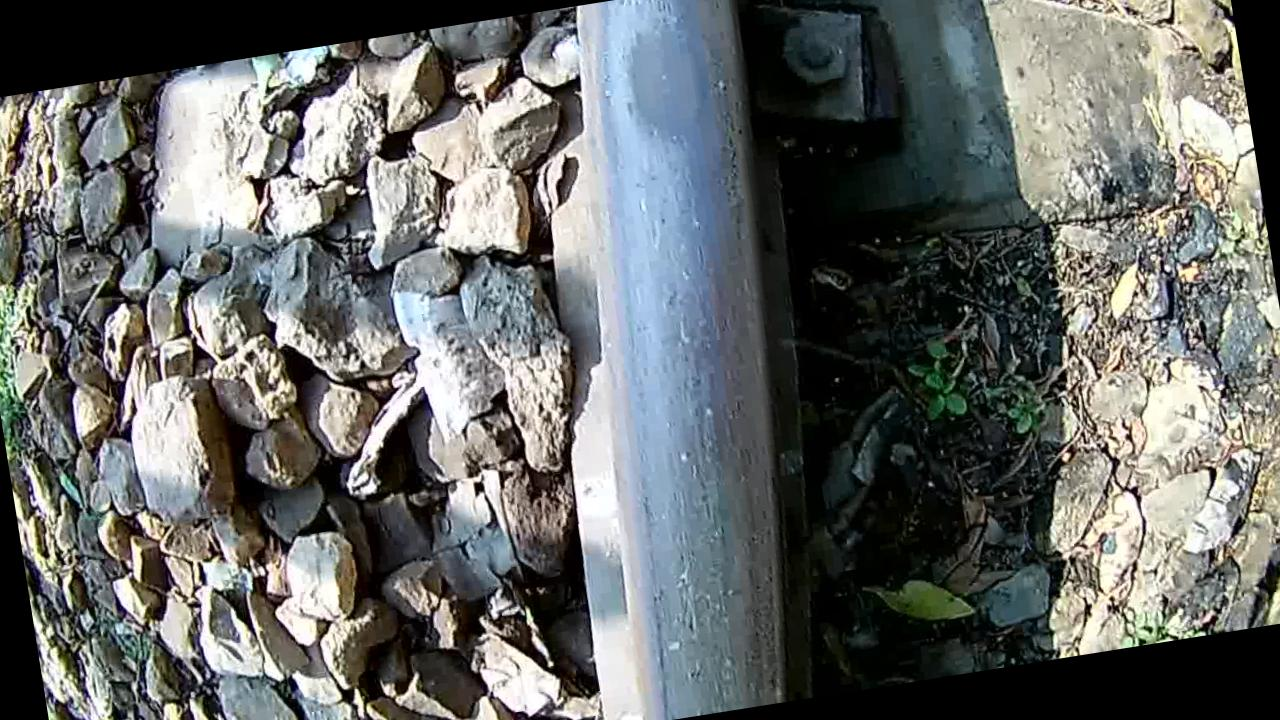bolt_missing: (583, 0, 757, 176)
